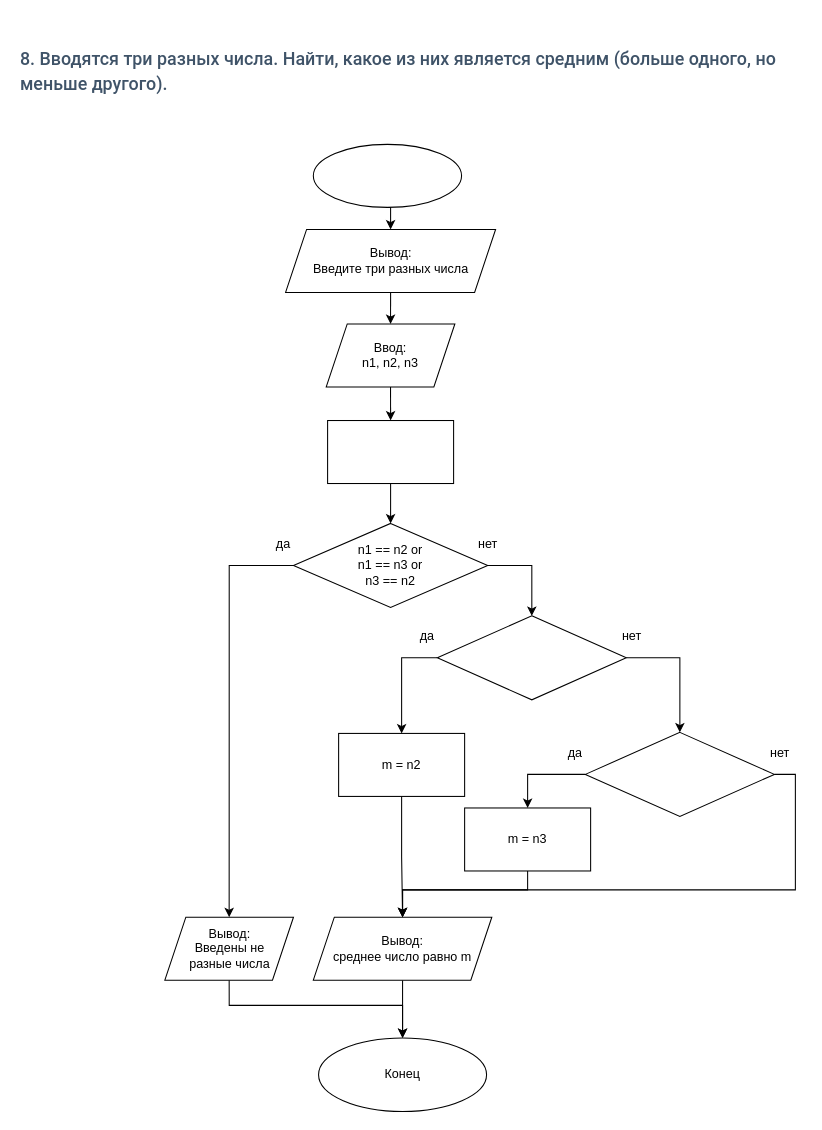
This 822x1130 diagram has some shape labels left out. Each missing label, with the centre of its shape:
"m = n1" goes at (x=390, y=451).
"n1 < n2 < n3 or n3 < n2 < n1" goes at (x=531, y=657).
"n2 < n3 < n1 or n1 < n3 < n2" goes at (x=679, y=773).
"Начало" goes at (x=387, y=175).
